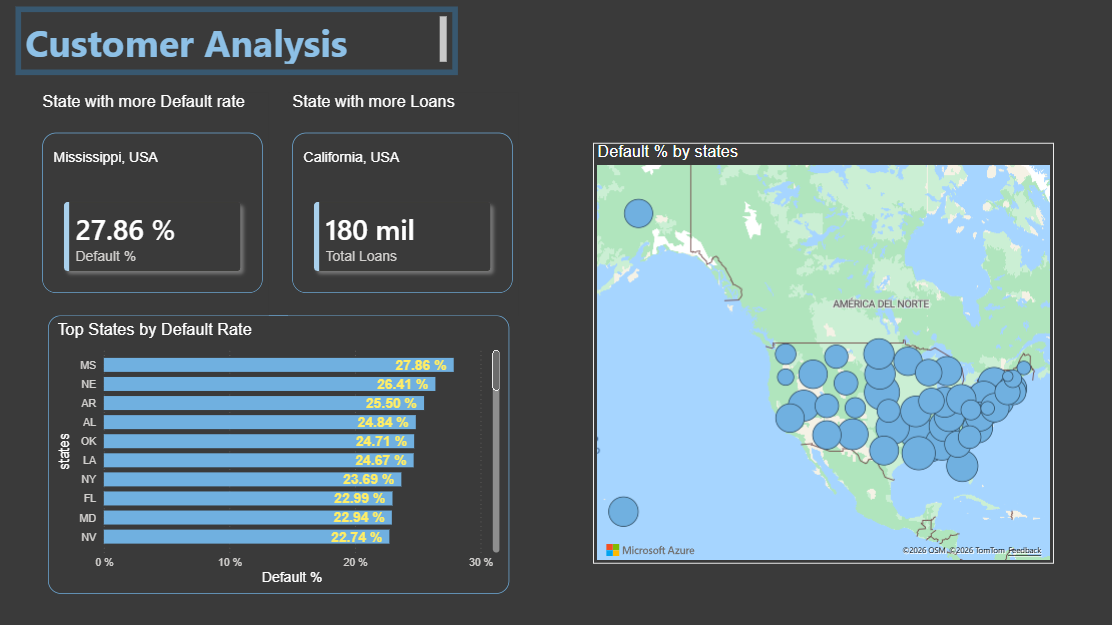

The dashboard page shown, as its layout file describes it:
{"tool":"powerbi","page":{"name":"Geographic Analysis","canvas":[1280,720],"ordinal":3},"visuals":[{"type":"textbox","box":[20,8.6,504.3,87.1],"z":0},{"type":"azureMap","title":"Geographic Risk Distribution","fields":{"Category":["dim_geography.state_name_usa"]},"box":[745.7,134,505,550],"z":1000},{"type":"clusteredBarChart","title":"Top 5 Highest Risk States","fields":{"Category":["dim_geography.state_name_usa"],"Y":["fact_loans.Default %"]},"box":[418.8,390.7,317.1,292.9],"z":2000},{"type":"clusteredBarChart","title":"Top 5 Lowest Risk States","fields":{"Category":["dim_geography.state_name_usa"],"Y":["fact_loans.Default %"]},"box":[27.3,390.7,381.4,292.9],"z":3000},{"type":"cardVisual","title":"Peak Loan Volume","fields":{"Data":["fact_loans.Total Loans"],"Rows":["dim_geography.state_name_usa"]},"box":[408.8,133.5,251.4,220],"z":4000},{"type":"cardVisual","title":"Peak Default Rate","fields":{"Data":["fact_loans.Default %"],"Rows":["dim_geography.state_name_usa"]},"box":[64.5,133.5,251.4,220],"z":5000},{"type":"slicer","fields":{"Values":["dim_date.year"]},"box":[576.7,8.3,673.3,108.3],"z":6000}]}

Visuals, with their boxes in screenshot pixels (x1, y1, x2, y2), scaled from the page's 1280x720 canvas onto the 1112x625 screenshot:
textbox: detection(17, 7, 455, 83)
"Geographic Risk Distribution" azureMap: detection(648, 116, 1087, 594)
"Top 5 Highest Risk States" clusteredBarChart: detection(364, 339, 639, 593)
"Top 5 Lowest Risk States" clusteredBarChart: detection(24, 339, 355, 593)
"Peak Loan Volume" cardVisual: detection(355, 116, 574, 307)
"Peak Default Rate" cardVisual: detection(56, 116, 274, 307)
slicer - dim_date.year: detection(501, 7, 1086, 101)
